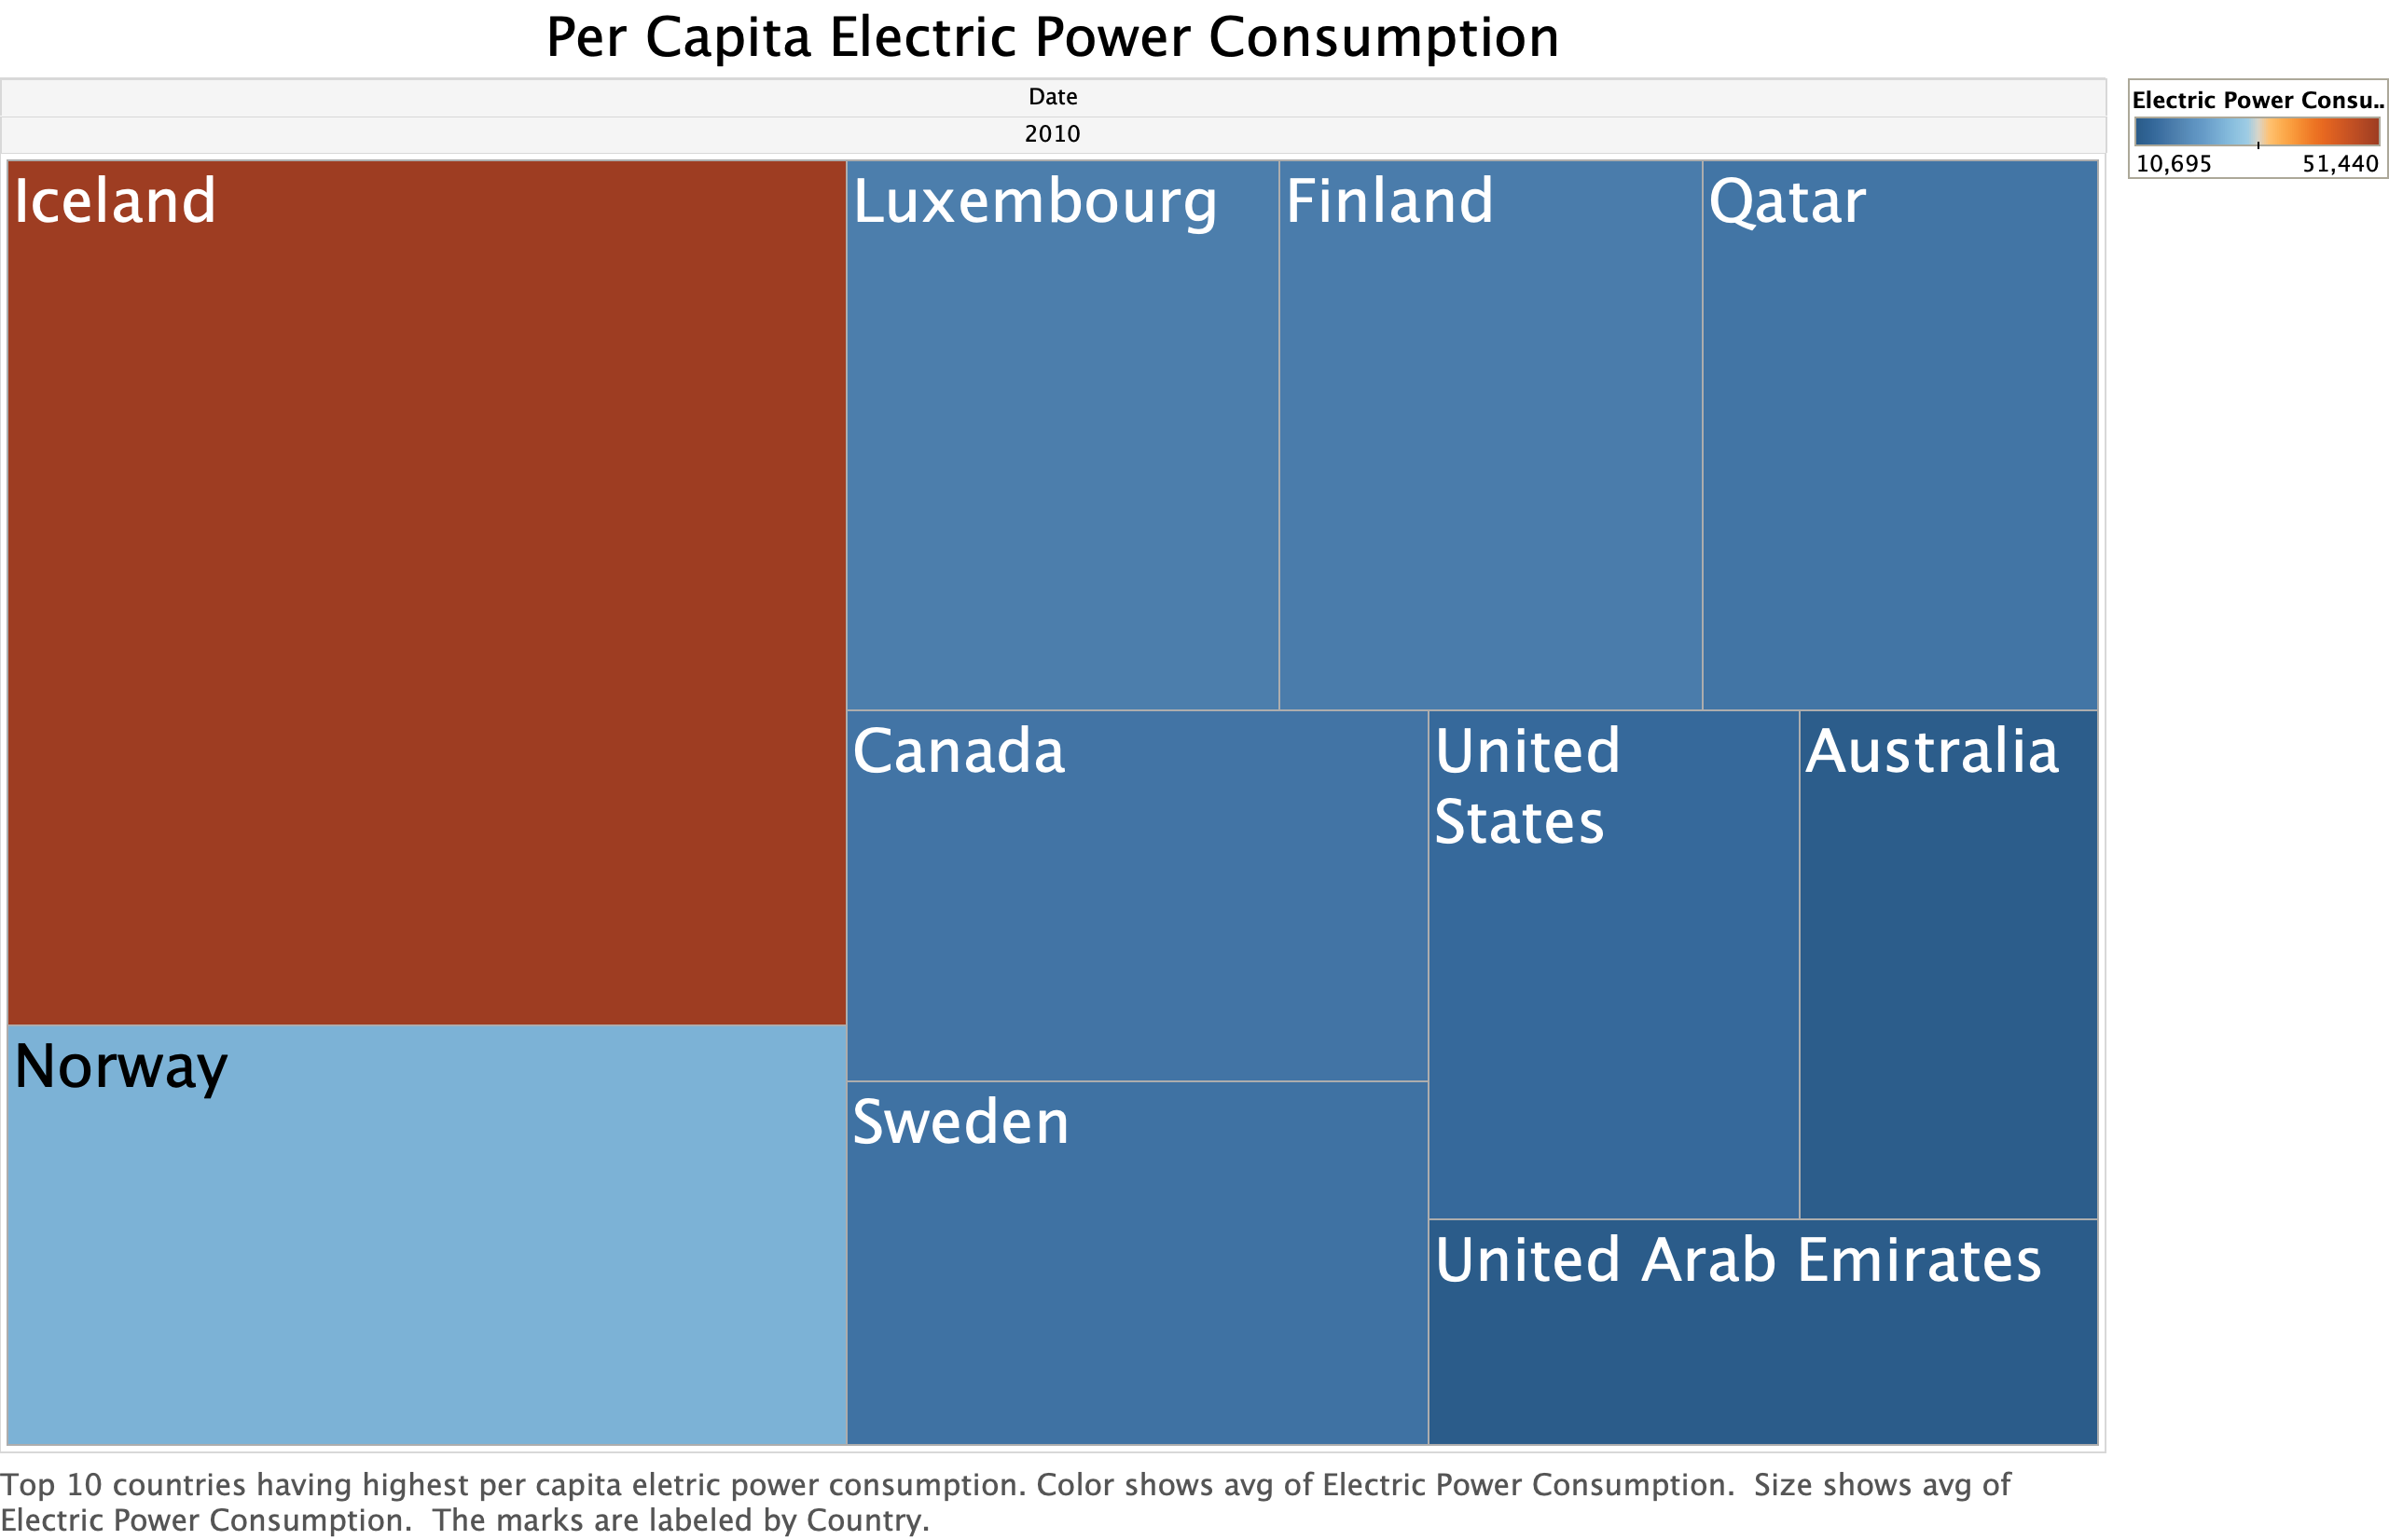

The dashboard page shown, as its layout file describes it:
{"tool":"tableau","page":{"name":"Dashboard 7","canvas":[1000,800],"ordinal":6},"visuals":[{"type":"worksheet","title":"2010 top 10 electic power per capita utilizing countries","mark":"Automatic","cols":["date"],"box":[6,10,884,675]},{"type":"legend","title":"2010 top 10 electic power per capita utilizing countries","param":"[federated.1xsmqb81fn4dih1f3dif60cdkcfr].[sum:electric_power_consumption:qk]","box":[15,658,287,72]}]}

Visuals, with their boxes on the page's 1000x800 design canvas (x1, y1, x2, y2). These are canvas units, not pixel positions in the 2389x1540 screenshot, which may show the page scaled, cropped or inside an application window:
"2010 top 10 electic power per capita utilizing countries" worksheet: BBox(6, 10, 890, 685)
"2010 top 10 electic power per capita utilizing countries" legend: BBox(15, 658, 302, 730)
